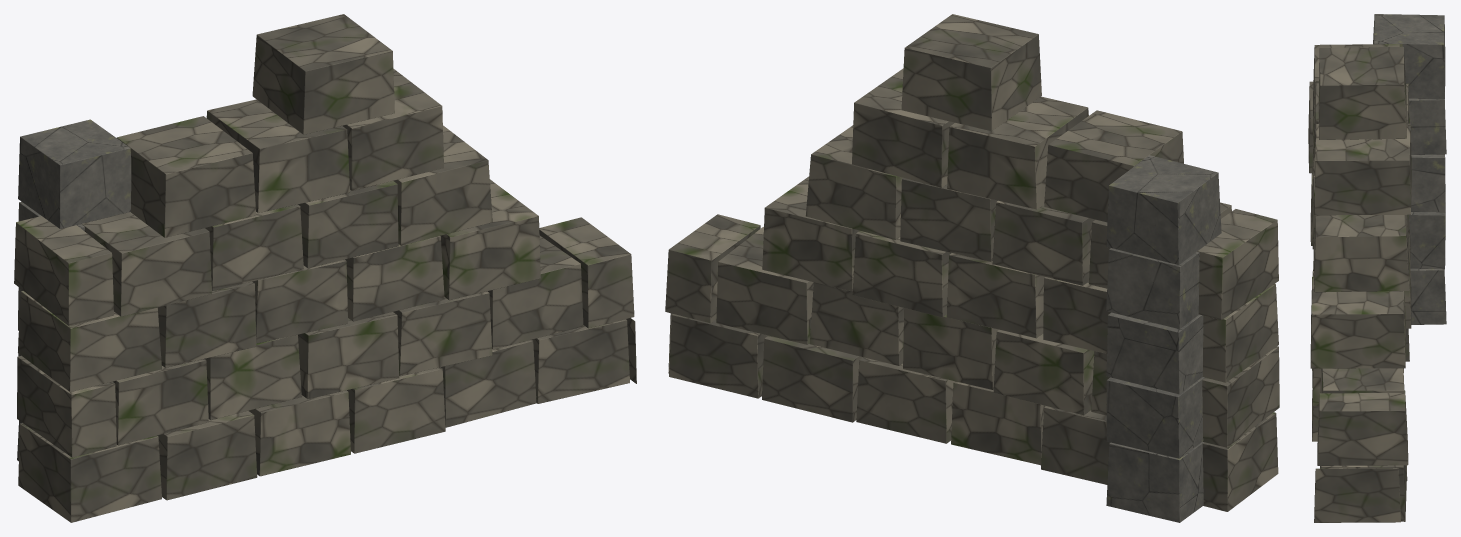
File: RuinWall_B.fbx
3 renders of one model, left to right at view 1: azimuth 30°, elevation 25°; view 2: azimuth 150°, elevation 25°; view 3: azimuth 270°, elevation 25°, orthographic. The views are drawn at different scales.
Visible parts, largest first — view 1: RuinWall_B; view 2: RuinWall_B; view 3: RuinWall_B.
Boxes of the visible parts, box(x1,y1,x2,y2) form: RuinWall_B: box(14, 14, 636, 522); RuinWall_B: box(665, 14, 1279, 522); RuinWall_B: box(1308, 14, 1446, 522).
Size of the model in its own units: 499 by 329 by 122.
